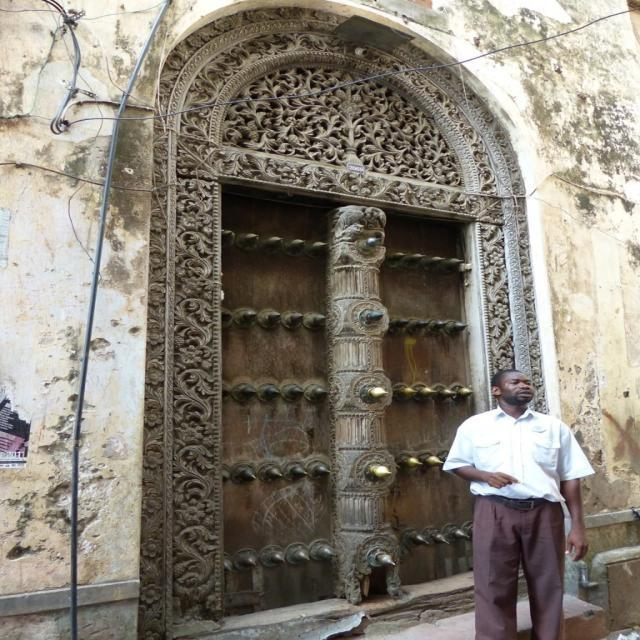door: (184, 148, 512, 640)
